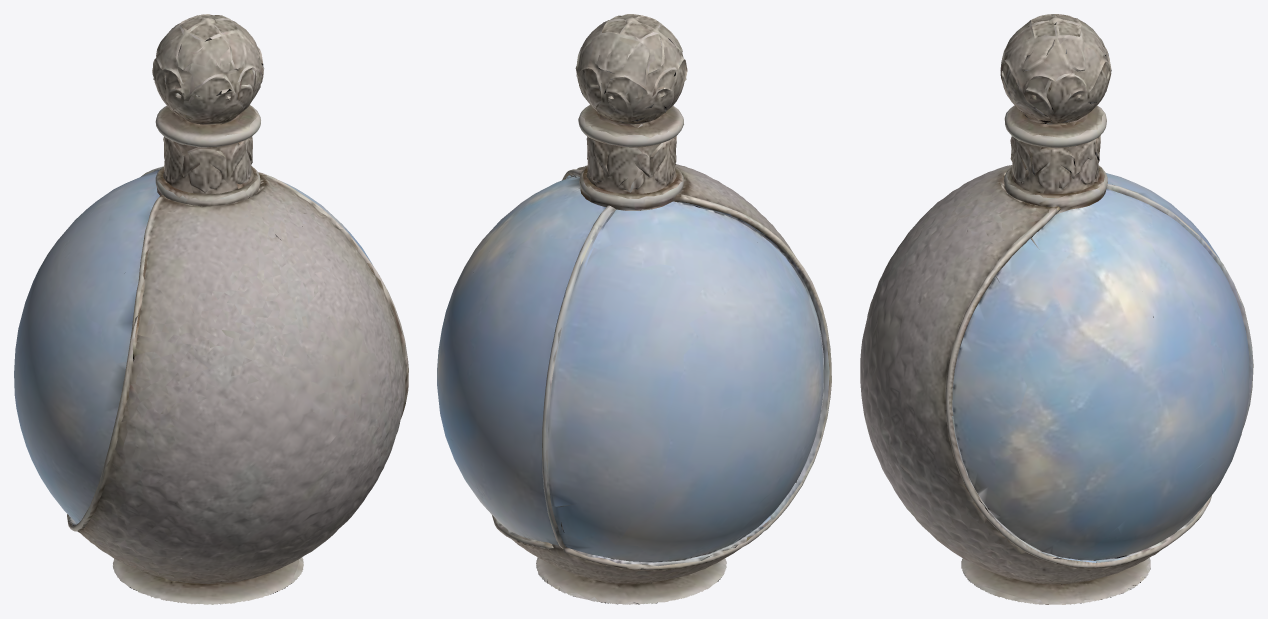
File: SE-10_moon_flask_game.glb
3 renders of one model, left to right at view 1: azimuth 30°, elevation 25°; view 2: azimuth 150°, elevation 25°; view 3: azimuth 270°, elevation 25°, orthographic.
Parts seen in each view (by area): view 1: SE-10_moon_flask; view 2: SE-10_moon_flask; view 3: SE-10_moon_flask.
Boxes of the visible parts, x1,y1,x2,y2 form: SE-10_moon_flask: [14, 14, 408, 604]; SE-10_moon_flask: [437, 14, 831, 604]; SE-10_moon_flask: [860, 14, 1253, 604].
Bounding box in the file's own units: 0.1934 × 0.3 × 0.1958.
Materials: 1 (1 with a texture image).
